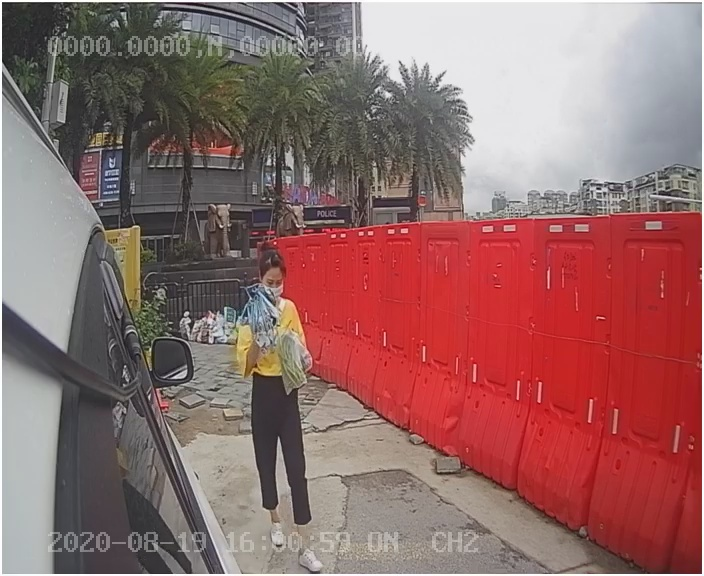person: (226, 242, 339, 533)
